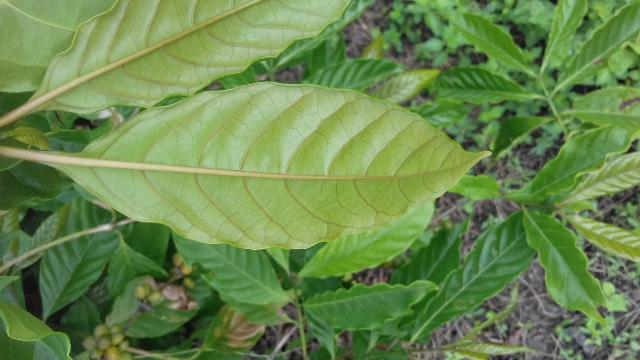healthy: (40, 84, 489, 249)
